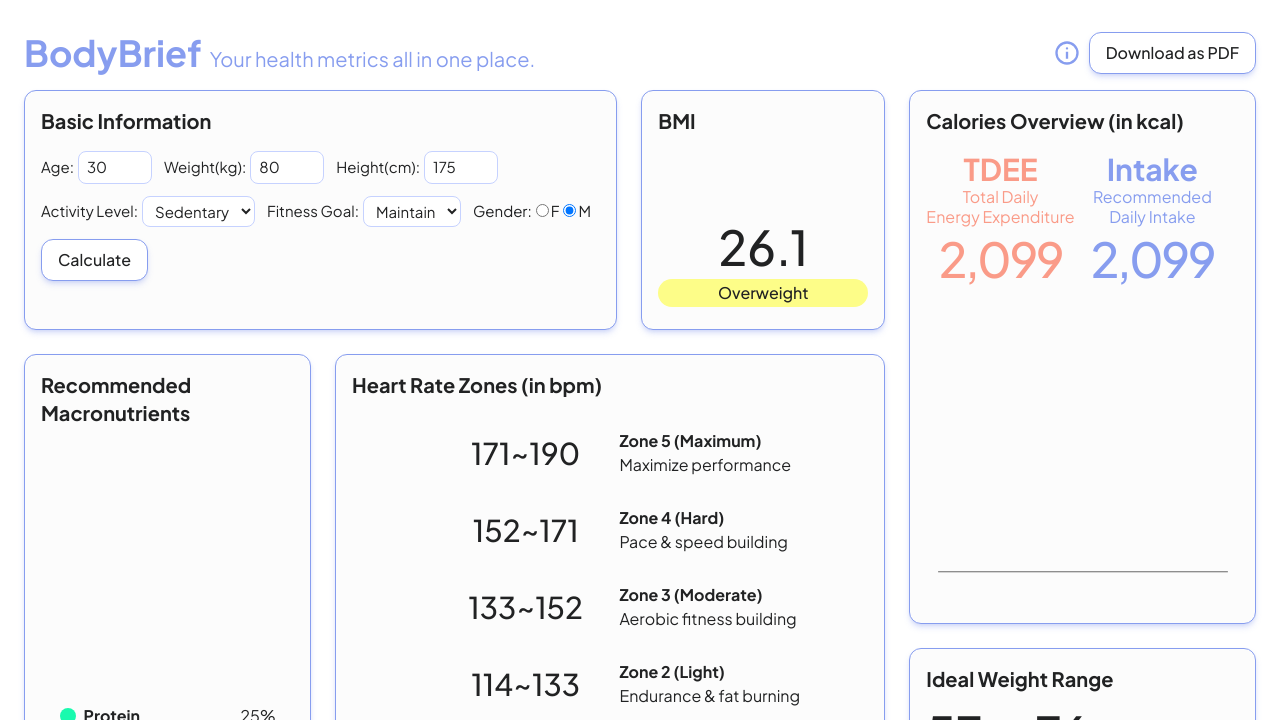
Test case: user interactions with About Modal › closes the dialog when user clicks the close button
Click the button "about this project".
click(1067, 53)  # box 1053,39 -> 1081,67
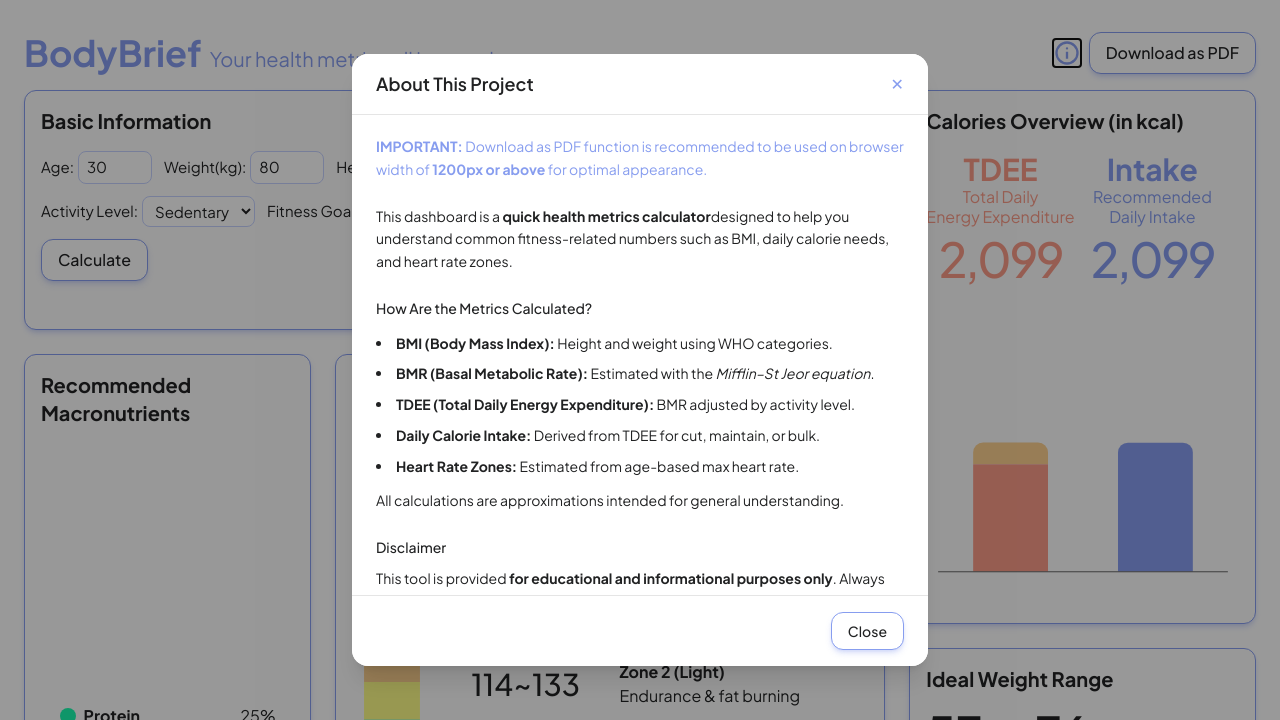
Result: the dialog is shown at 352,54 -> 928,666
Click the button "Close".
click(867, 631)  # box 831,612 -> 904,650
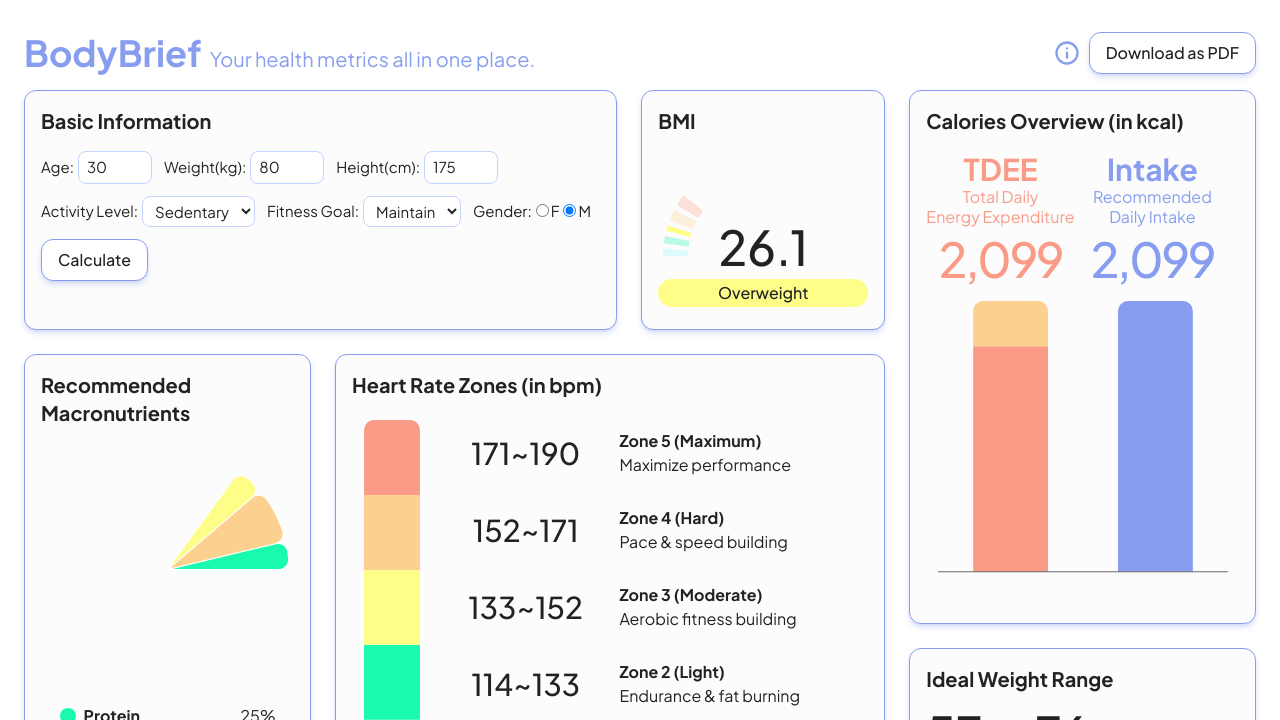
Result: the dialog is gone
